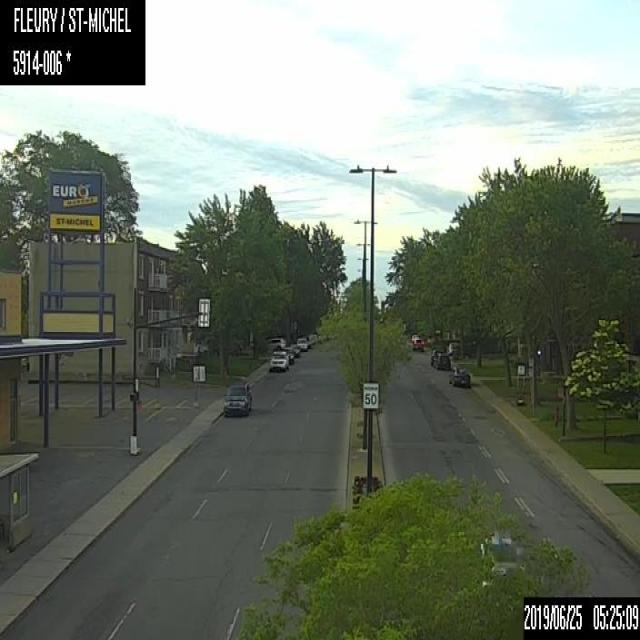vehicle: (222, 380, 253, 415), (267, 348, 289, 370), (450, 366, 470, 388), (433, 352, 450, 369), (428, 348, 444, 365), (266, 337, 285, 348), (296, 334, 308, 350), (288, 342, 300, 357), (411, 336, 422, 351), (284, 347, 294, 363)
